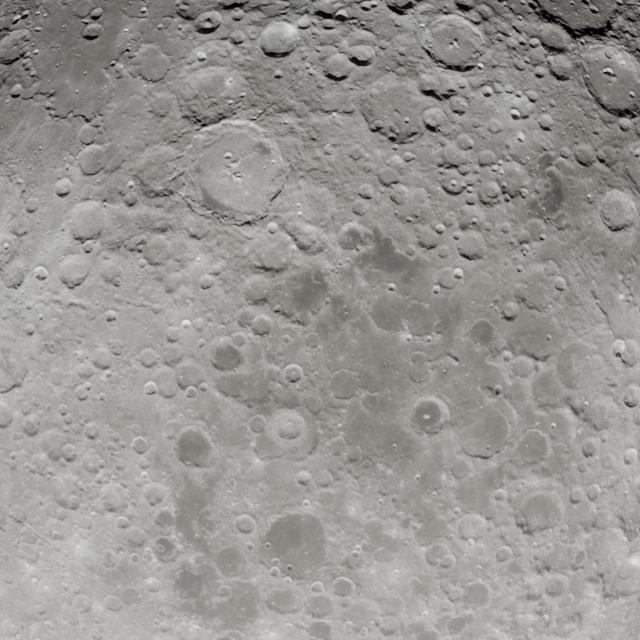crater: (175, 63, 252, 123), (579, 45, 640, 115), (422, 13, 488, 68), (454, 402, 513, 460), (552, 342, 606, 399), (243, 225, 301, 274), (589, 527, 632, 584), (128, 43, 174, 84), (518, 492, 564, 532), (598, 189, 638, 232), (532, 365, 572, 406), (174, 428, 214, 468), (67, 199, 106, 240), (491, 161, 532, 200), (257, 21, 298, 56), (514, 429, 552, 465), (140, 89, 180, 122), (266, 584, 306, 616), (327, 368, 364, 402), (213, 545, 250, 579), (57, 254, 93, 288), (173, 362, 209, 396), (138, 233, 176, 265), (36, 428, 71, 462), (208, 338, 244, 371), (0, 28, 32, 65), (148, 366, 182, 400), (77, 143, 110, 177), (337, 220, 372, 250), (455, 229, 488, 260), (455, 513, 489, 543), (534, 23, 569, 51), (99, 482, 131, 512), (610, 337, 640, 369), (322, 52, 355, 80), (97, 256, 125, 286), (547, 52, 577, 78), (507, 92, 537, 118), (424, 543, 454, 568), (421, 106, 449, 132), (462, 581, 490, 606), (478, 179, 506, 204), (2, 261, 26, 289), (457, 204, 485, 228), (194, 10, 223, 33), (346, 44, 376, 65), (143, 483, 168, 508), (90, 346, 115, 370), (543, 574, 569, 597), (524, 218, 548, 242), (436, 267, 461, 290), (510, 356, 536, 378), (55, 490, 82, 511), (574, 144, 597, 166), (250, 314, 272, 336), (77, 123, 99, 145), (331, 577, 355, 597), (377, 166, 401, 186), (234, 514, 256, 535), (22, 414, 42, 437), (137, 348, 160, 368), (581, 437, 601, 458), (75, 362, 96, 382), (283, 364, 304, 384), (155, 509, 175, 529), (455, 133, 476, 152), (102, 595, 124, 613), (622, 387, 640, 409), (477, 148, 498, 166), (0, 402, 15, 427), (142, 576, 162, 594), (130, 436, 150, 454), (501, 301, 520, 319), (54, 178, 72, 196), (295, 470, 313, 488), (74, 596, 92, 614), (495, 546, 513, 563), (165, 326, 182, 344), (83, 456, 100, 474), (537, 113, 554, 130), (74, 383, 90, 401), (570, 487, 586, 504), (83, 422, 99, 439), (586, 484, 602, 501), (198, 274, 215, 290), (357, 183, 374, 199), (24, 197, 41, 213), (32, 265, 49, 281), (623, 447, 638, 465), (216, 585, 232, 599), (492, 488, 508, 502), (115, 516, 130, 530), (553, 276, 567, 291), (9, 83, 23, 98), (104, 309, 118, 323), (310, 581, 325, 594)
rock: (445, 32, 470, 54)
